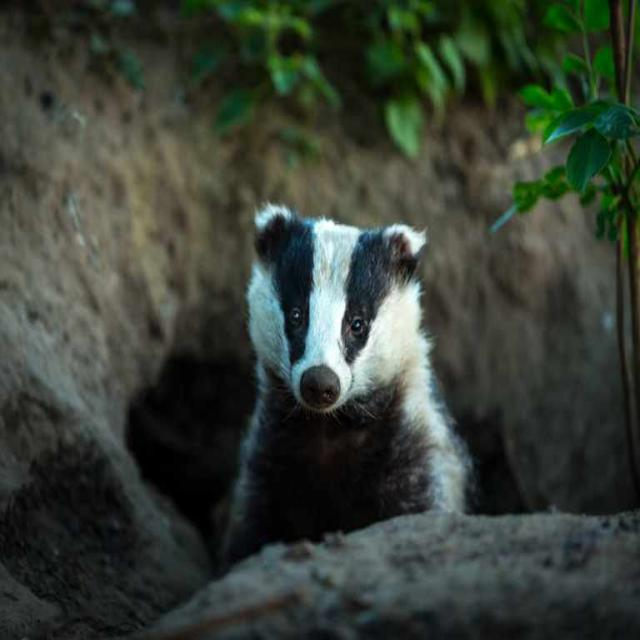Badger: (224, 196, 468, 546)
